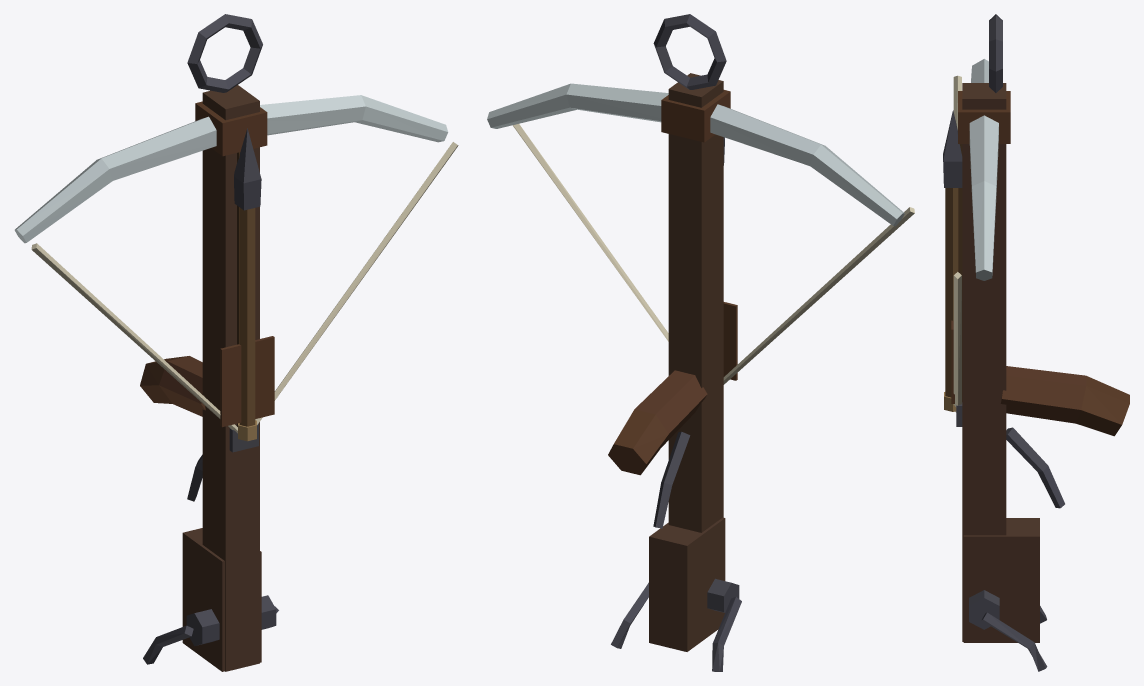
File: weapon_crossbow_arbalest.glb
3 renders of one model, left to right at view 1: azimuth 30°, elevation 25°; view 2: azimuth 150°, elevation 25°; view 3: azimuth 270°, elevation 25°, orthographic. The views are drawn at different scales.
Visible parts, largest first — view 1: weapon_crossbow_arbalest, weapon_crossbow_arbalest_bolt, weapon_crossbow_arbalest_string; view 2: weapon_crossbow_arbalest, weapon_crossbow_arbalest_string, weapon_crossbow_arbalest_bolt; view 3: weapon_crossbow_arbalest, weapon_crossbow_arbalest_bolt, weapon_crossbow_arbalest_string.
Boxes of the visible parts, <box> form: weapon_crossbow_arbalest: <box>14,14,448,671</box>; weapon_crossbow_arbalest_bolt: <box>220,128,274,441</box>; weapon_crossbow_arbalest_string: <box>31,142,458,433</box>; weapon_crossbow_arbalest: <box>487,14,904,671</box>; weapon_crossbow_arbalest_string: <box>513,124,914,384</box>; weapon_crossbow_arbalest_bolt: <box>723,137,737,380</box>; weapon_crossbow_arbalest: <box>956,14,1129,671</box>; weapon_crossbow_arbalest_bolt: <box>943,110,962,411</box>; weapon_crossbow_arbalest_string: <box>953,75,961,412</box>.
Bounding box in the file's own units: 0.8147 × 1.19 × 0.3179.
